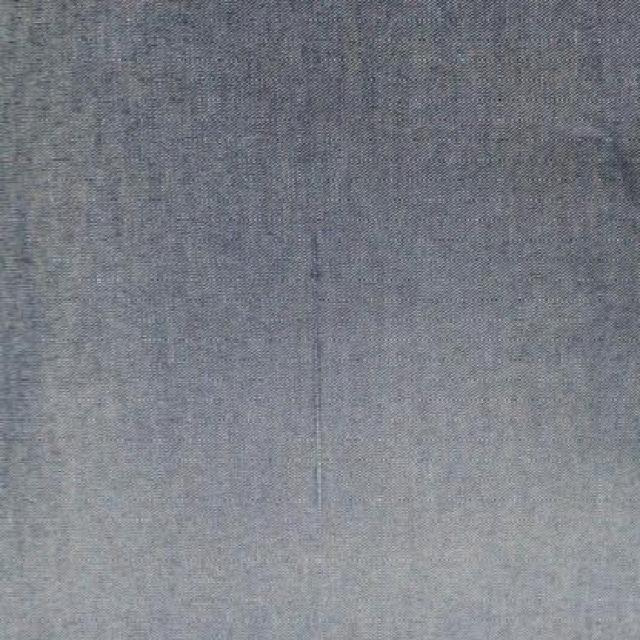pulled_or_thick_thread: (302, 220, 334, 542)
